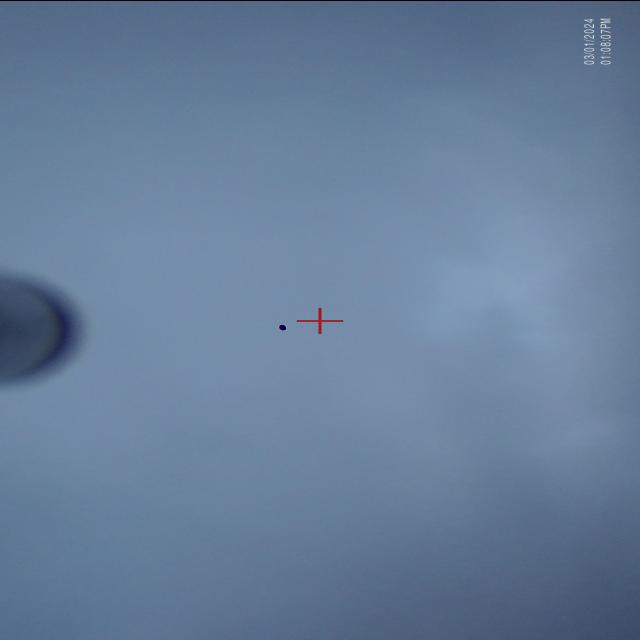entire: (269, 316, 292, 336)
